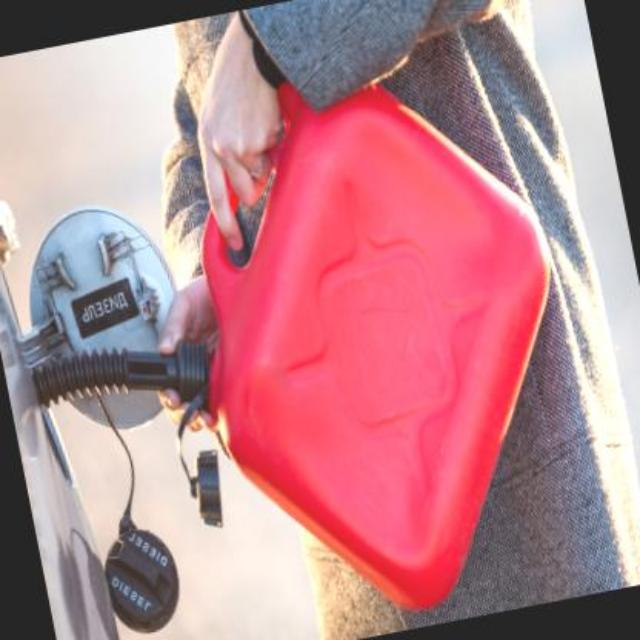chemical_plastic_gallon: (108, 37, 616, 638)
